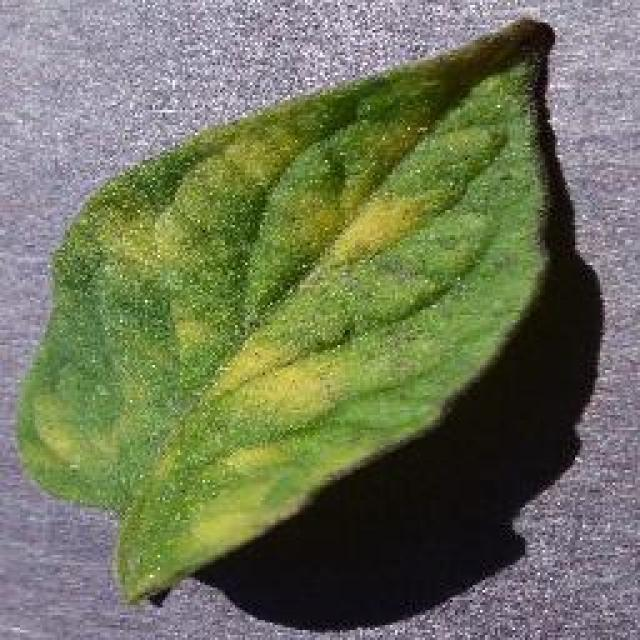Tomato mold leaf: (12, 15, 552, 600)
